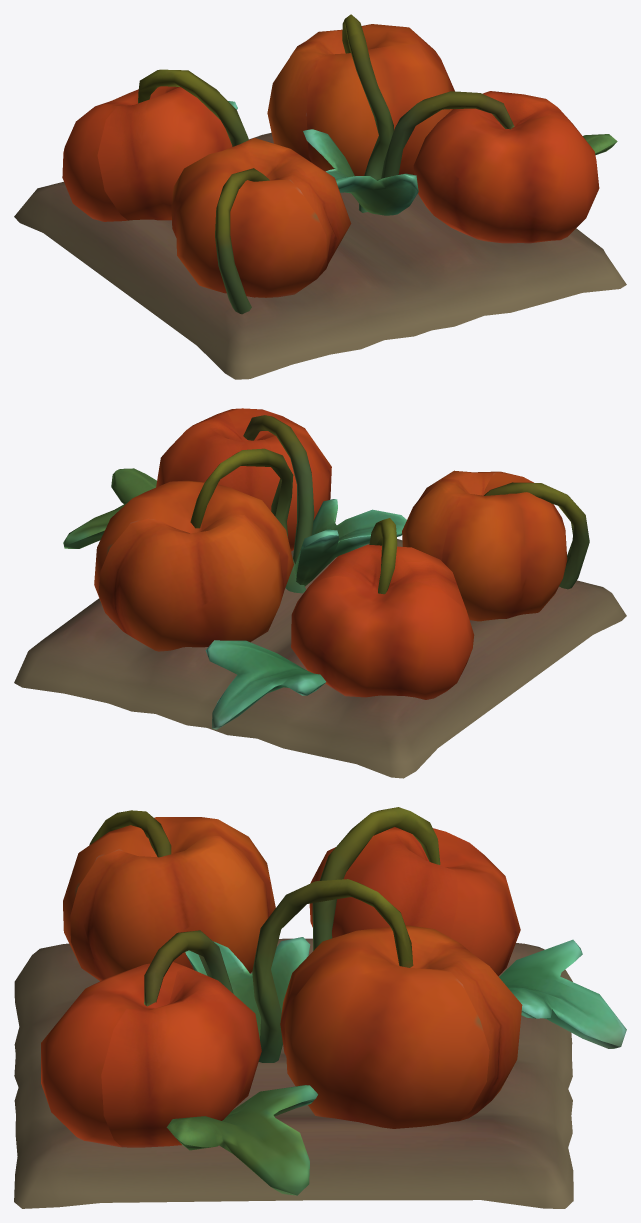
The model's file is SM_Crop_Pumpkin_03.glb.
The picture shows the model from 3 angles, top to bottom: view 1: azimuth 30°, elevation 25°; view 2: azimuth 150°, elevation 25°; view 3: azimuth 270°, elevation 25°; orthographic projection. The views are drawn at different scales.
Parts seen in each view (by area): view 1: SM_Crop_Pumpkin_03; view 2: SM_Crop_Pumpkin_03; view 3: SM_Crop_Pumpkin_03.
Boxes of the visible parts, x1,y1,x2,y2 form: SM_Crop_Pumpkin_03: (14, 14, 626, 379); SM_Crop_Pumpkin_03: (14, 408, 626, 778); SM_Crop_Pumpkin_03: (14, 807, 626, 1208).
Size of the model in its own units: 4.52 by 2.08 by 4.31.
Materials: 1 (1 with a texture image).
